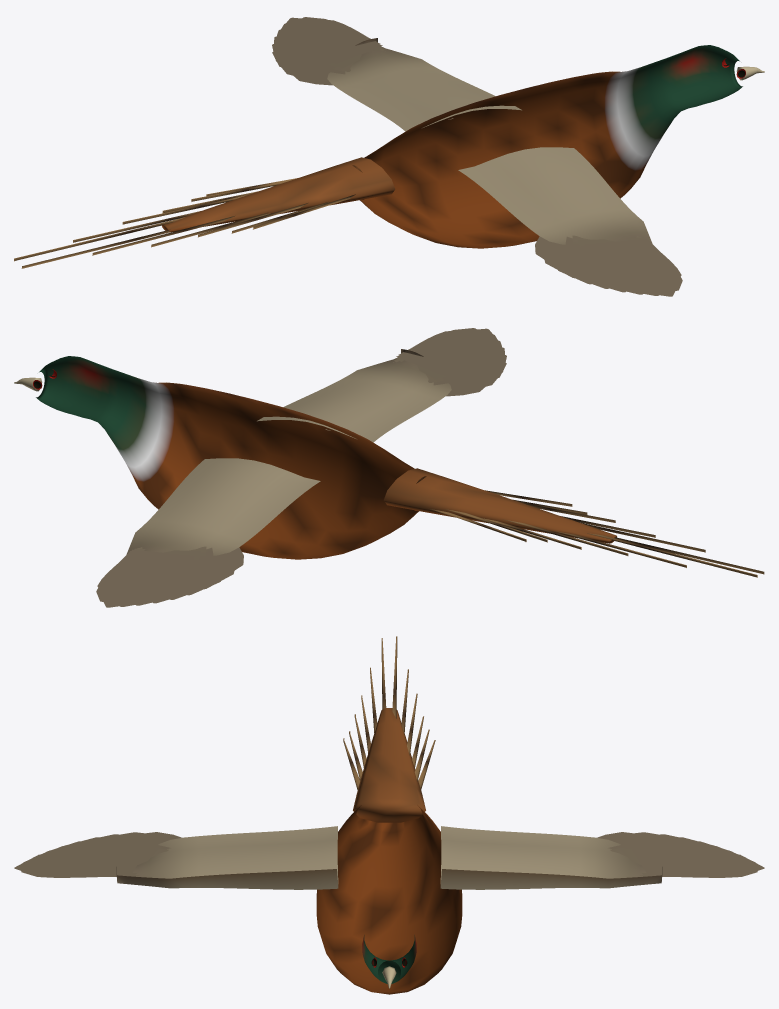
The model's file is SM_Bird_pheasant_glide.glb.
3 renders of one model, top to bottom at view 1: azimuth 30°, elevation 25°; view 2: azimuth 150°, elevation 25°; view 3: azimuth 270°, elevation 25°, orthographic.
Visible parts, largest first — view 1: SM_Bird_pheasant_glide; view 2: SM_Bird_pheasant_glide; view 3: SM_Bird_pheasant_glide.
Part boxes in pixels (bbox=[...]): SM_Bird_pheasant_glide: bbox=[14, 17, 764, 296]; SM_Bird_pheasant_glide: bbox=[14, 328, 764, 607]; SM_Bird_pheasant_glide: bbox=[14, 636, 764, 994].
Size of the model in its own units: 0.8784 by 0.1618 by 0.7762.
